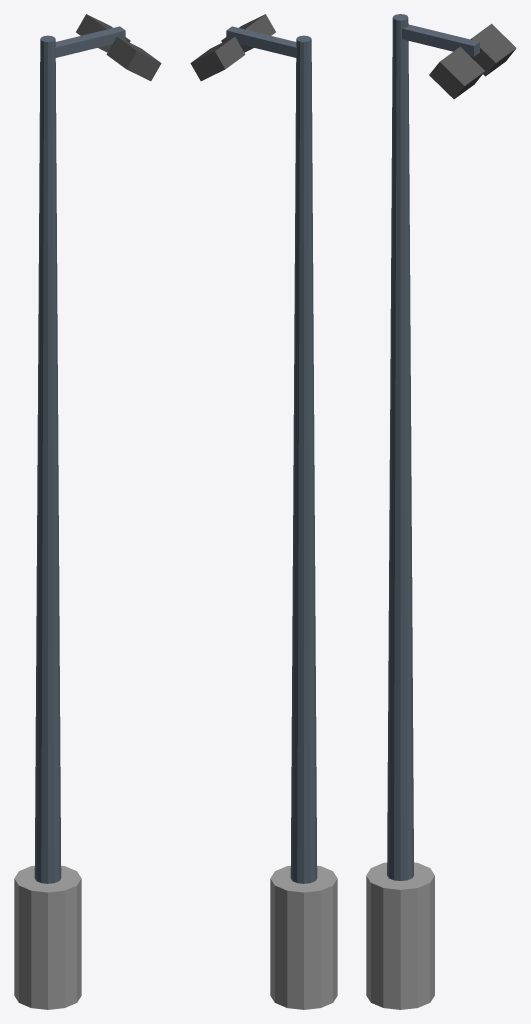
Rendered from light_pole.obj.
3 renders of one model, left to right at view 1: azimuth 30°, elevation 25°; view 2: azimuth 150°, elevation 25°; view 3: azimuth 330°, elevation 25°, orthographic. The views are drawn at different scales.
Size of the model in its own units: 1.41 by 11 by 1.06.
